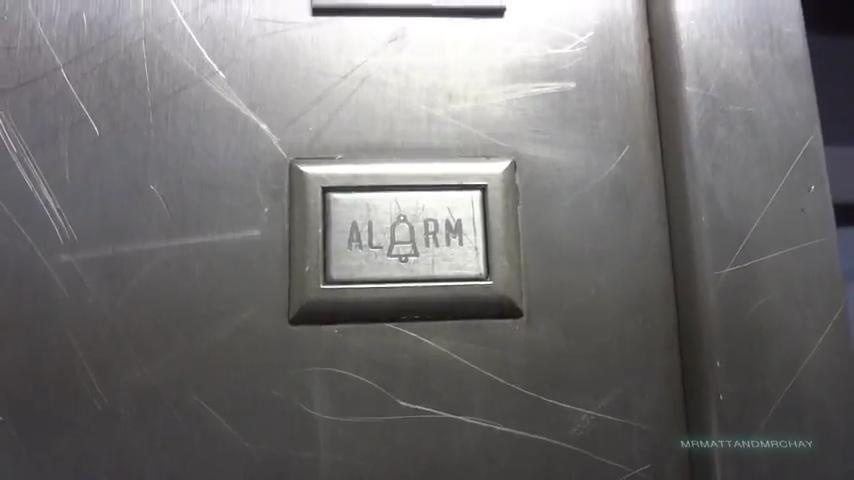alarm: (319, 181, 495, 285)
